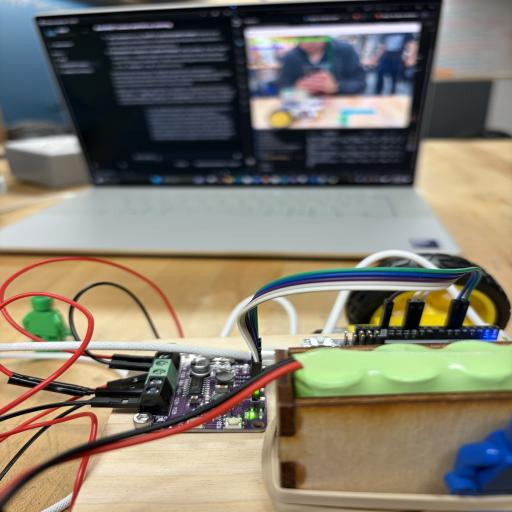Blue-Lego: (444, 416, 512, 495)
Green-Lego: (23, 296, 71, 341)
